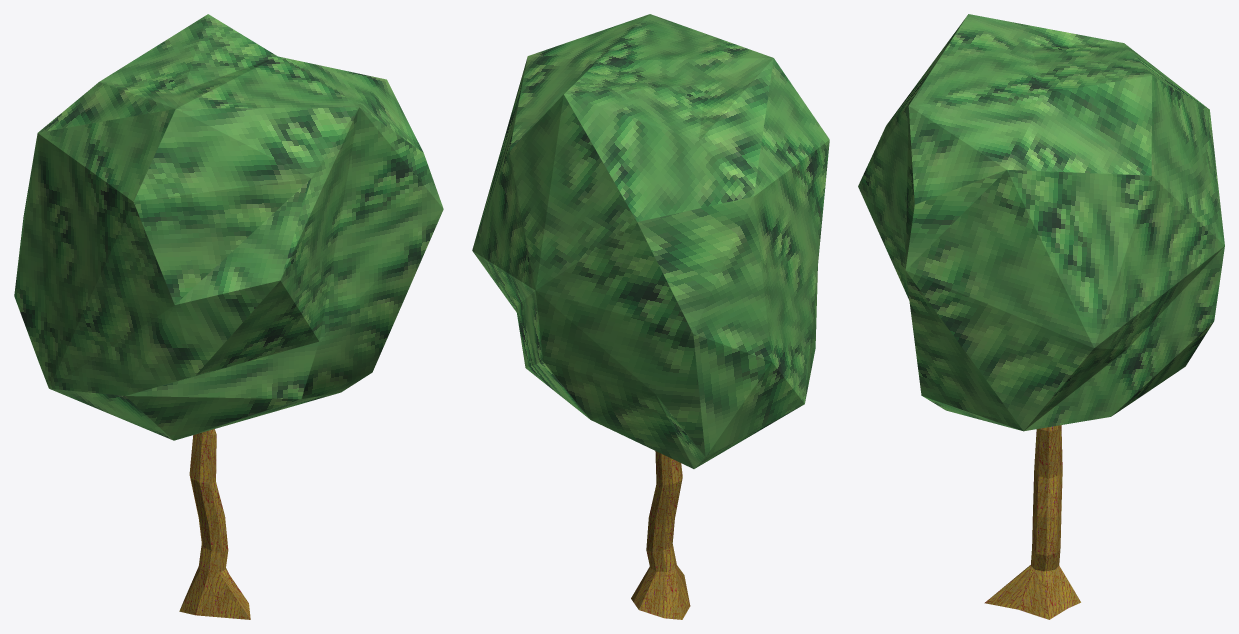
File: tree_darkgreen.glb
3 renders of one model, left to right at view 1: azimuth 30°, elevation 25°; view 2: azimuth 150°, elevation 25°; view 3: azimuth 270°, elevation 25°, orthographic. The views are drawn at different scales.
Parts seen in each view (by area): view 1: Cube.048; view 2: Cube.048; view 3: Cube.048.
Boxes of the visible parts, bbox=[...] form: Cube.048: bbox=[14, 14, 443, 619]; Cube.048: bbox=[472, 14, 829, 619]; Cube.048: bbox=[858, 14, 1224, 619].
Bounding box in the file's own units: 26.69 × 43.19 × 25.73.
Materials: 2 (2 with a texture image).
